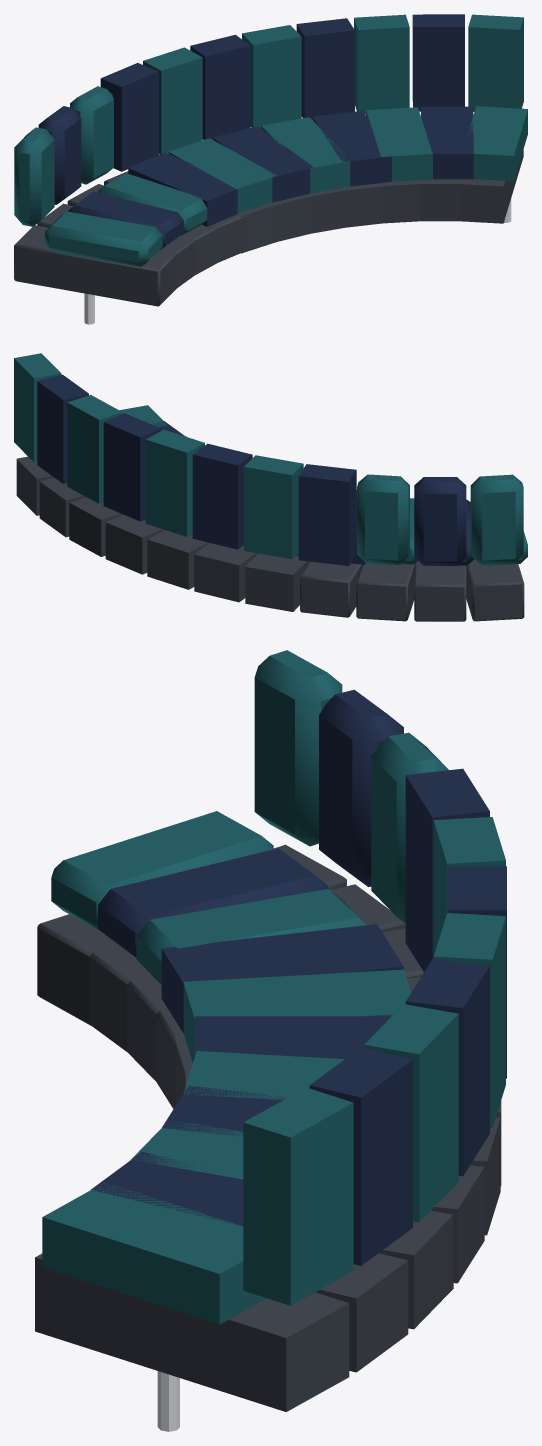
Rendered from couch_observation_sofa.glb.
3 renders of one model, top to bottom at view 1: azimuth 30°, elevation 25°; view 2: azimuth 150°, elevation 25°; view 3: azimuth 270°, elevation 25°, orthographic. The views are drawn at different scales.
Visible parts, largest first — view 1: couch_observation_sofa; view 2: couch_observation_sofa; view 3: couch_observation_sofa.
Part boxes in pixels (x1=…): couch_observation_sofa: x1=14, y1=14, x2=527, y2=324; couch_observation_sofa: x1=14, y1=353, x2=527, y2=621; couch_observation_sofa: x1=35, y1=650, x2=506, y2=1431.
Size of the model in its own units: 3.16 by 1 by 1.27.
